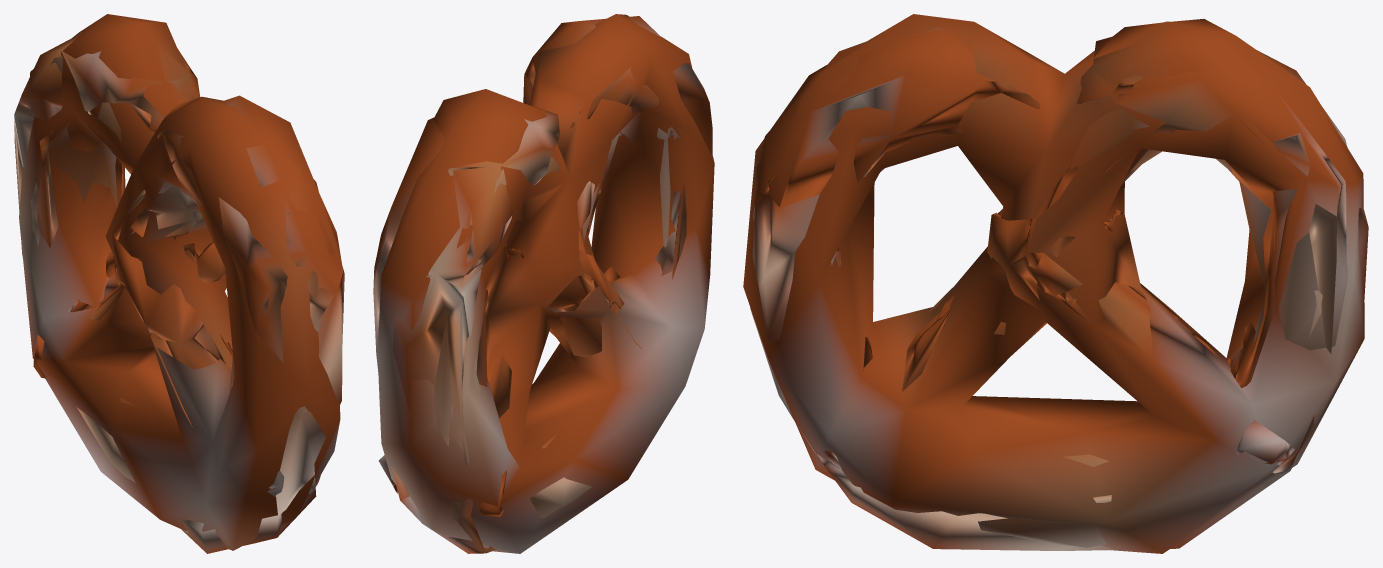
Rendered from gen3d-pretzel-lod1.glb.
3 views of the same model, side by side, from view 1: azimuth 30°, elevation 25°; view 2: azimuth 150°, elevation 25°; view 3: azimuth 270°, elevation 25° (orthographic). The views are drawn at different scales.
Parts seen in each view (by area): view 1: part_0; view 2: part_0; view 3: part_0.
Part boxes in pixels (<box>): part_0: <box>14,14,344,553</box>; part_0: <box>373,14,714,553</box>; part_0: <box>743,14,1368,553</box>.
Bounding box in the file's own units: 0.2716 × 1 × 1.07.
